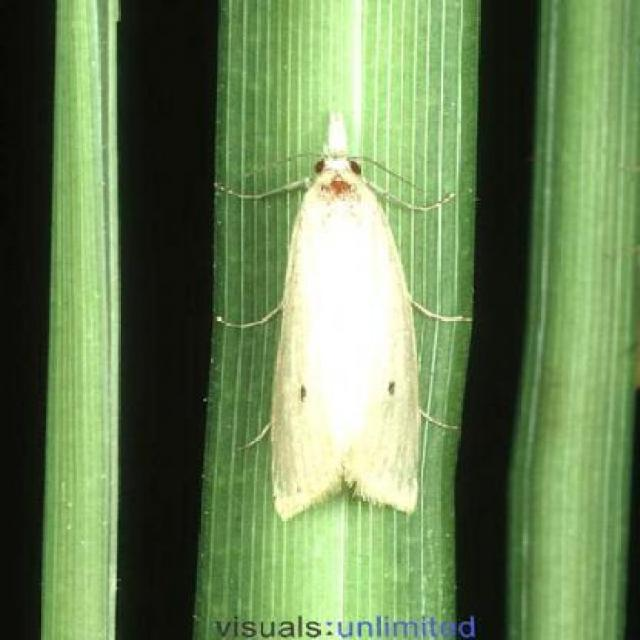stem-borer: (243, 99, 435, 526)
